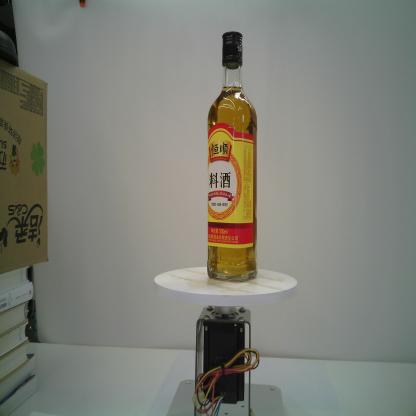Seasoner: (207, 30, 258, 284)
